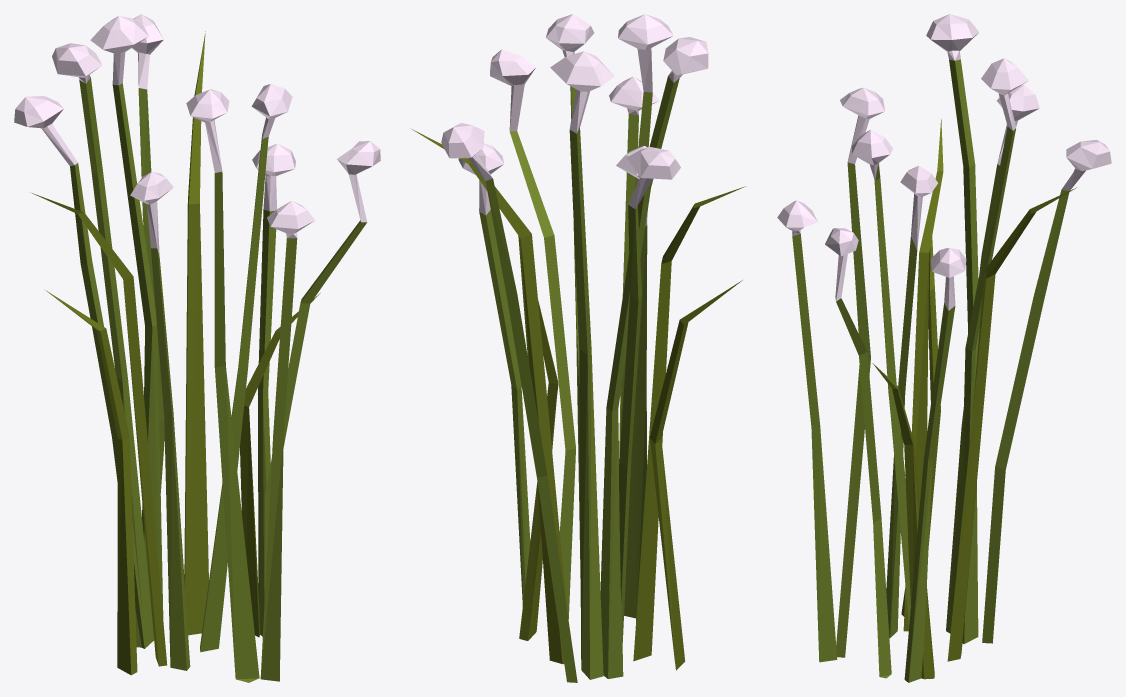
File: Flower 2_3.fbx
The picture shows the model from 3 angles, left to right: view 1: azimuth 30°, elevation 25°; view 2: azimuth 150°, elevation 25°; view 3: azimuth 270°, elevation 25°; orthographic projection. The views are drawn at different scales.
Parts seen in each view (by area): view 1: Flower 2_3; view 2: Flower 2_3; view 3: Flower 2_3.
Boxes of the visible parts, x1=… form: Flower 2_3: x1=14, y1=14, x2=380, y2=682; Flower 2_3: x1=412, y1=14, x2=745, y2=682; Flower 2_3: x1=777, y1=14, x2=1111, y2=682.
Size of the model in its own units: 0.2728 by 0.5387 by 0.2802.
